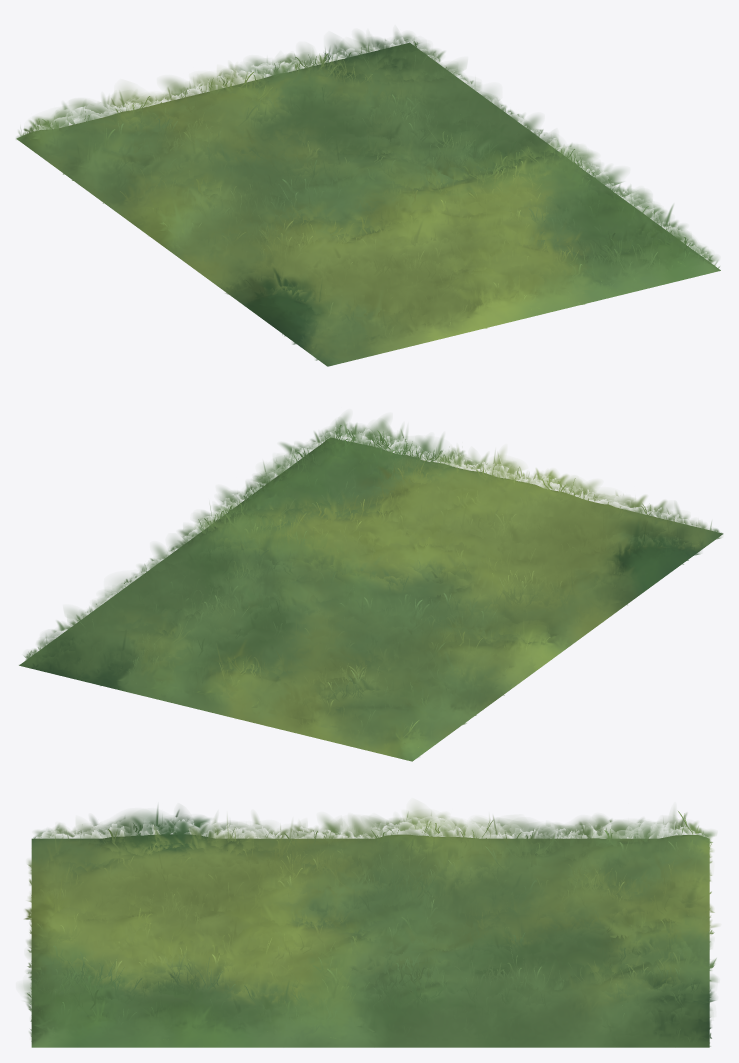
File: lawn-2.7x3.7.glb
3 views of the same model, one above another, from view 1: azimuth 30°, elevation 25°; view 2: azimuth 150°, elevation 25°; view 3: azimuth 270°, elevation 25° (orthographic). The views are drawn at different scales.
Parts seen in each view (by area): view 1: Kowloon painted lawn; view 2: Kowloon painted lawn; view 3: Kowloon painted lawn.
Part boxes in pixels (left/top/right/bottom): Kowloon painted lawn: left=16, top=32, right=720, bottom=366; Kowloon painted lawn: left=19, top=414, right=723, bottom=761; Kowloon painted lawn: left=23, top=806, right=717, bottom=1047.
Bounding box in the file's own units: 2.88 × 0.3272 × 3.88.
3 materials, 2 textured.
